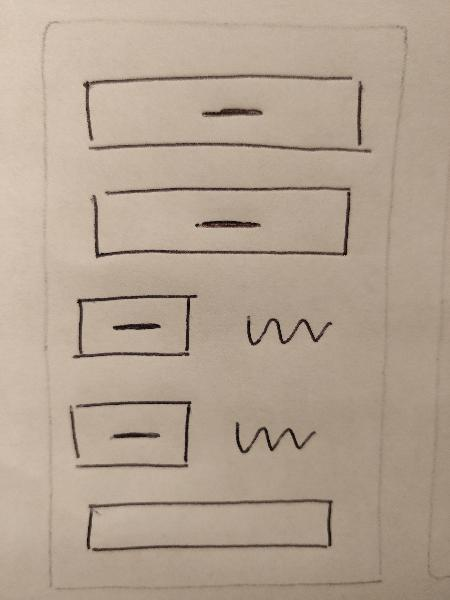button: (73, 68, 375, 165), (83, 181, 357, 268), (63, 394, 200, 477), (68, 288, 204, 367)
text: (224, 410, 319, 466), (234, 306, 333, 356)
text_input: (76, 495, 342, 561)
